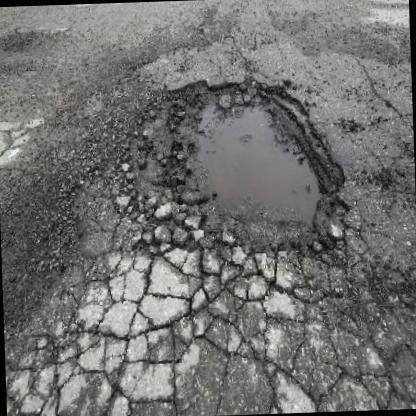pothole: (132, 78, 347, 262)
